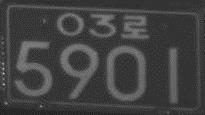0: (104, 44, 147, 102), (56, 12, 84, 36)
1: (158, 47, 190, 105)
3: (88, 12, 116, 38)
5: (13, 40, 53, 97)
9: (58, 42, 100, 99)
로: (121, 13, 149, 40)
